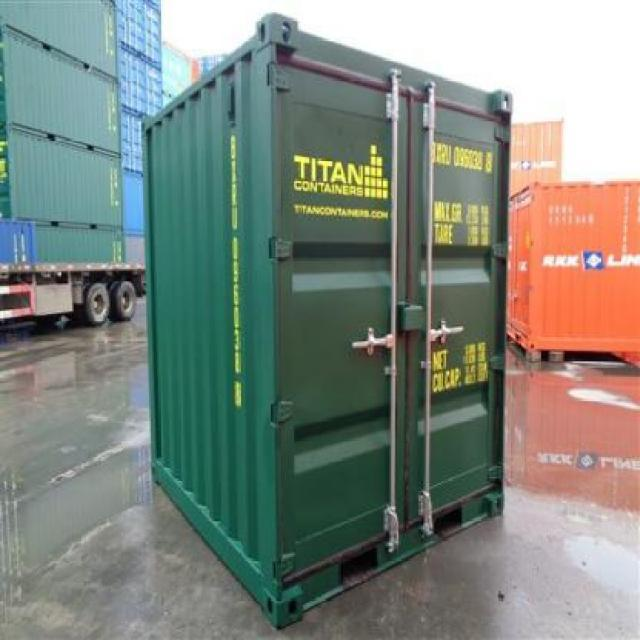container_number: (434, 138, 499, 181)
